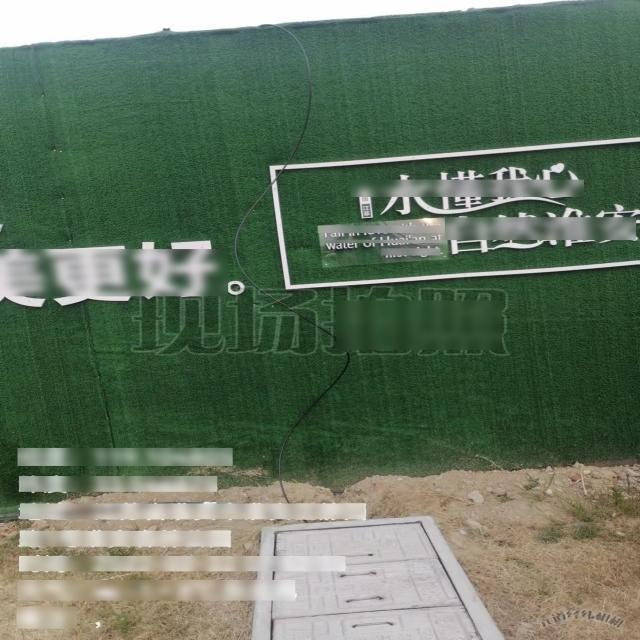Good: (247, 513, 503, 640)
